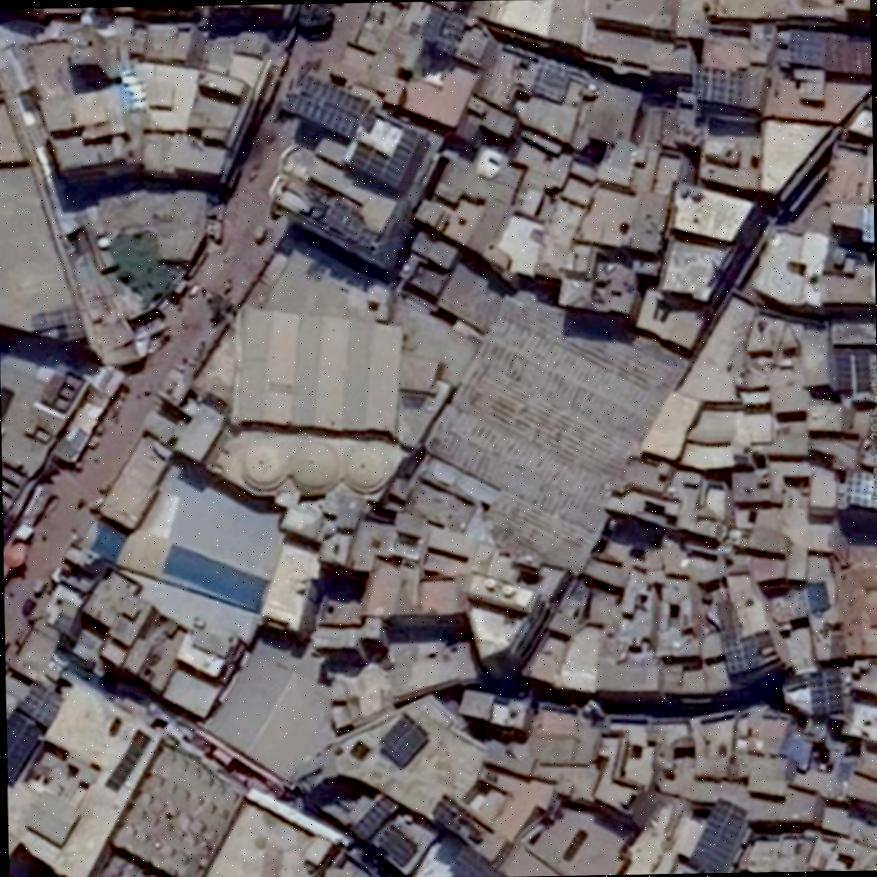Solarpanel: (291, 73, 369, 135), (348, 120, 417, 190), (689, 797, 746, 872), (5, 708, 43, 783), (378, 714, 422, 769), (20, 683, 63, 728), (354, 794, 397, 836), (807, 665, 842, 713), (835, 343, 870, 391), (374, 824, 415, 864), (528, 60, 567, 101), (695, 67, 740, 102), (721, 625, 749, 672)
